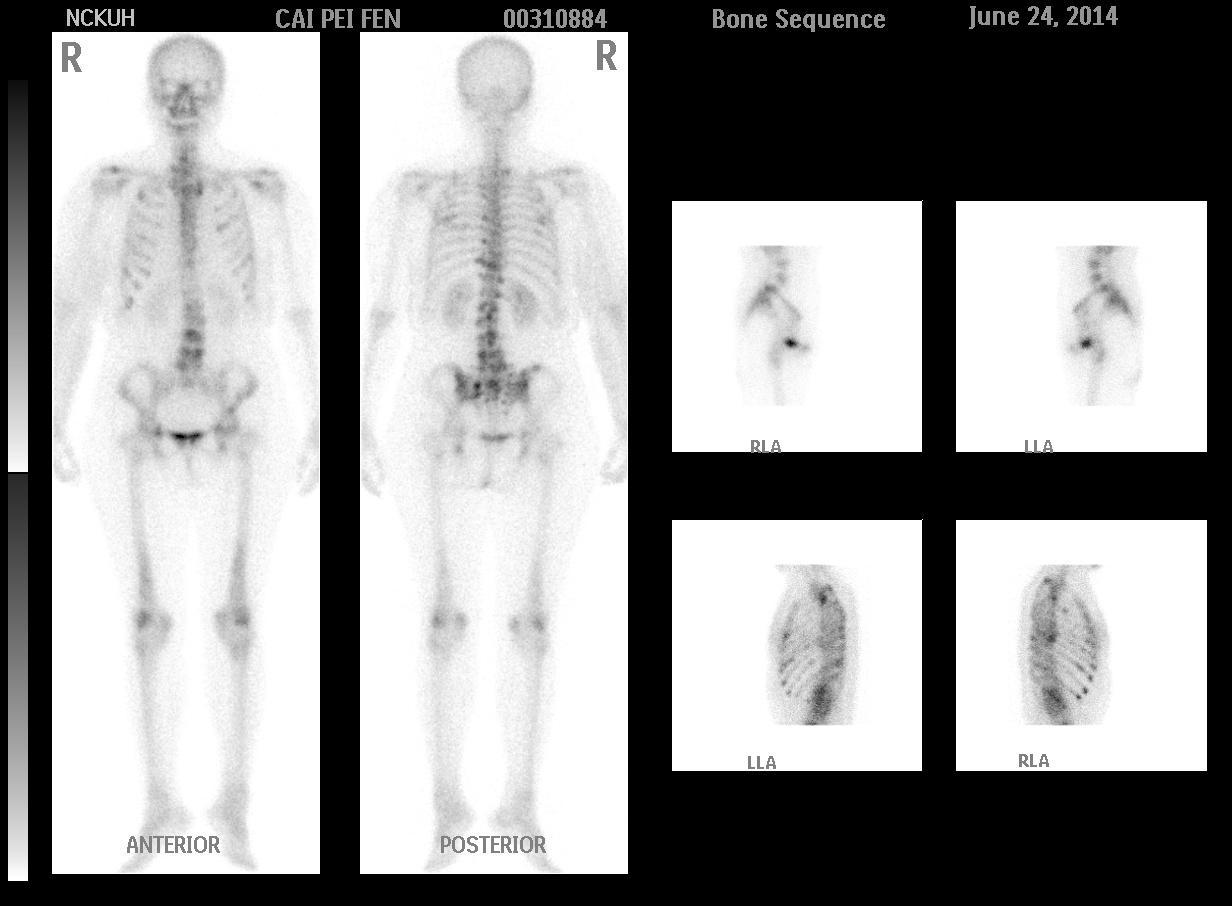person: (51, 30, 628, 873)
